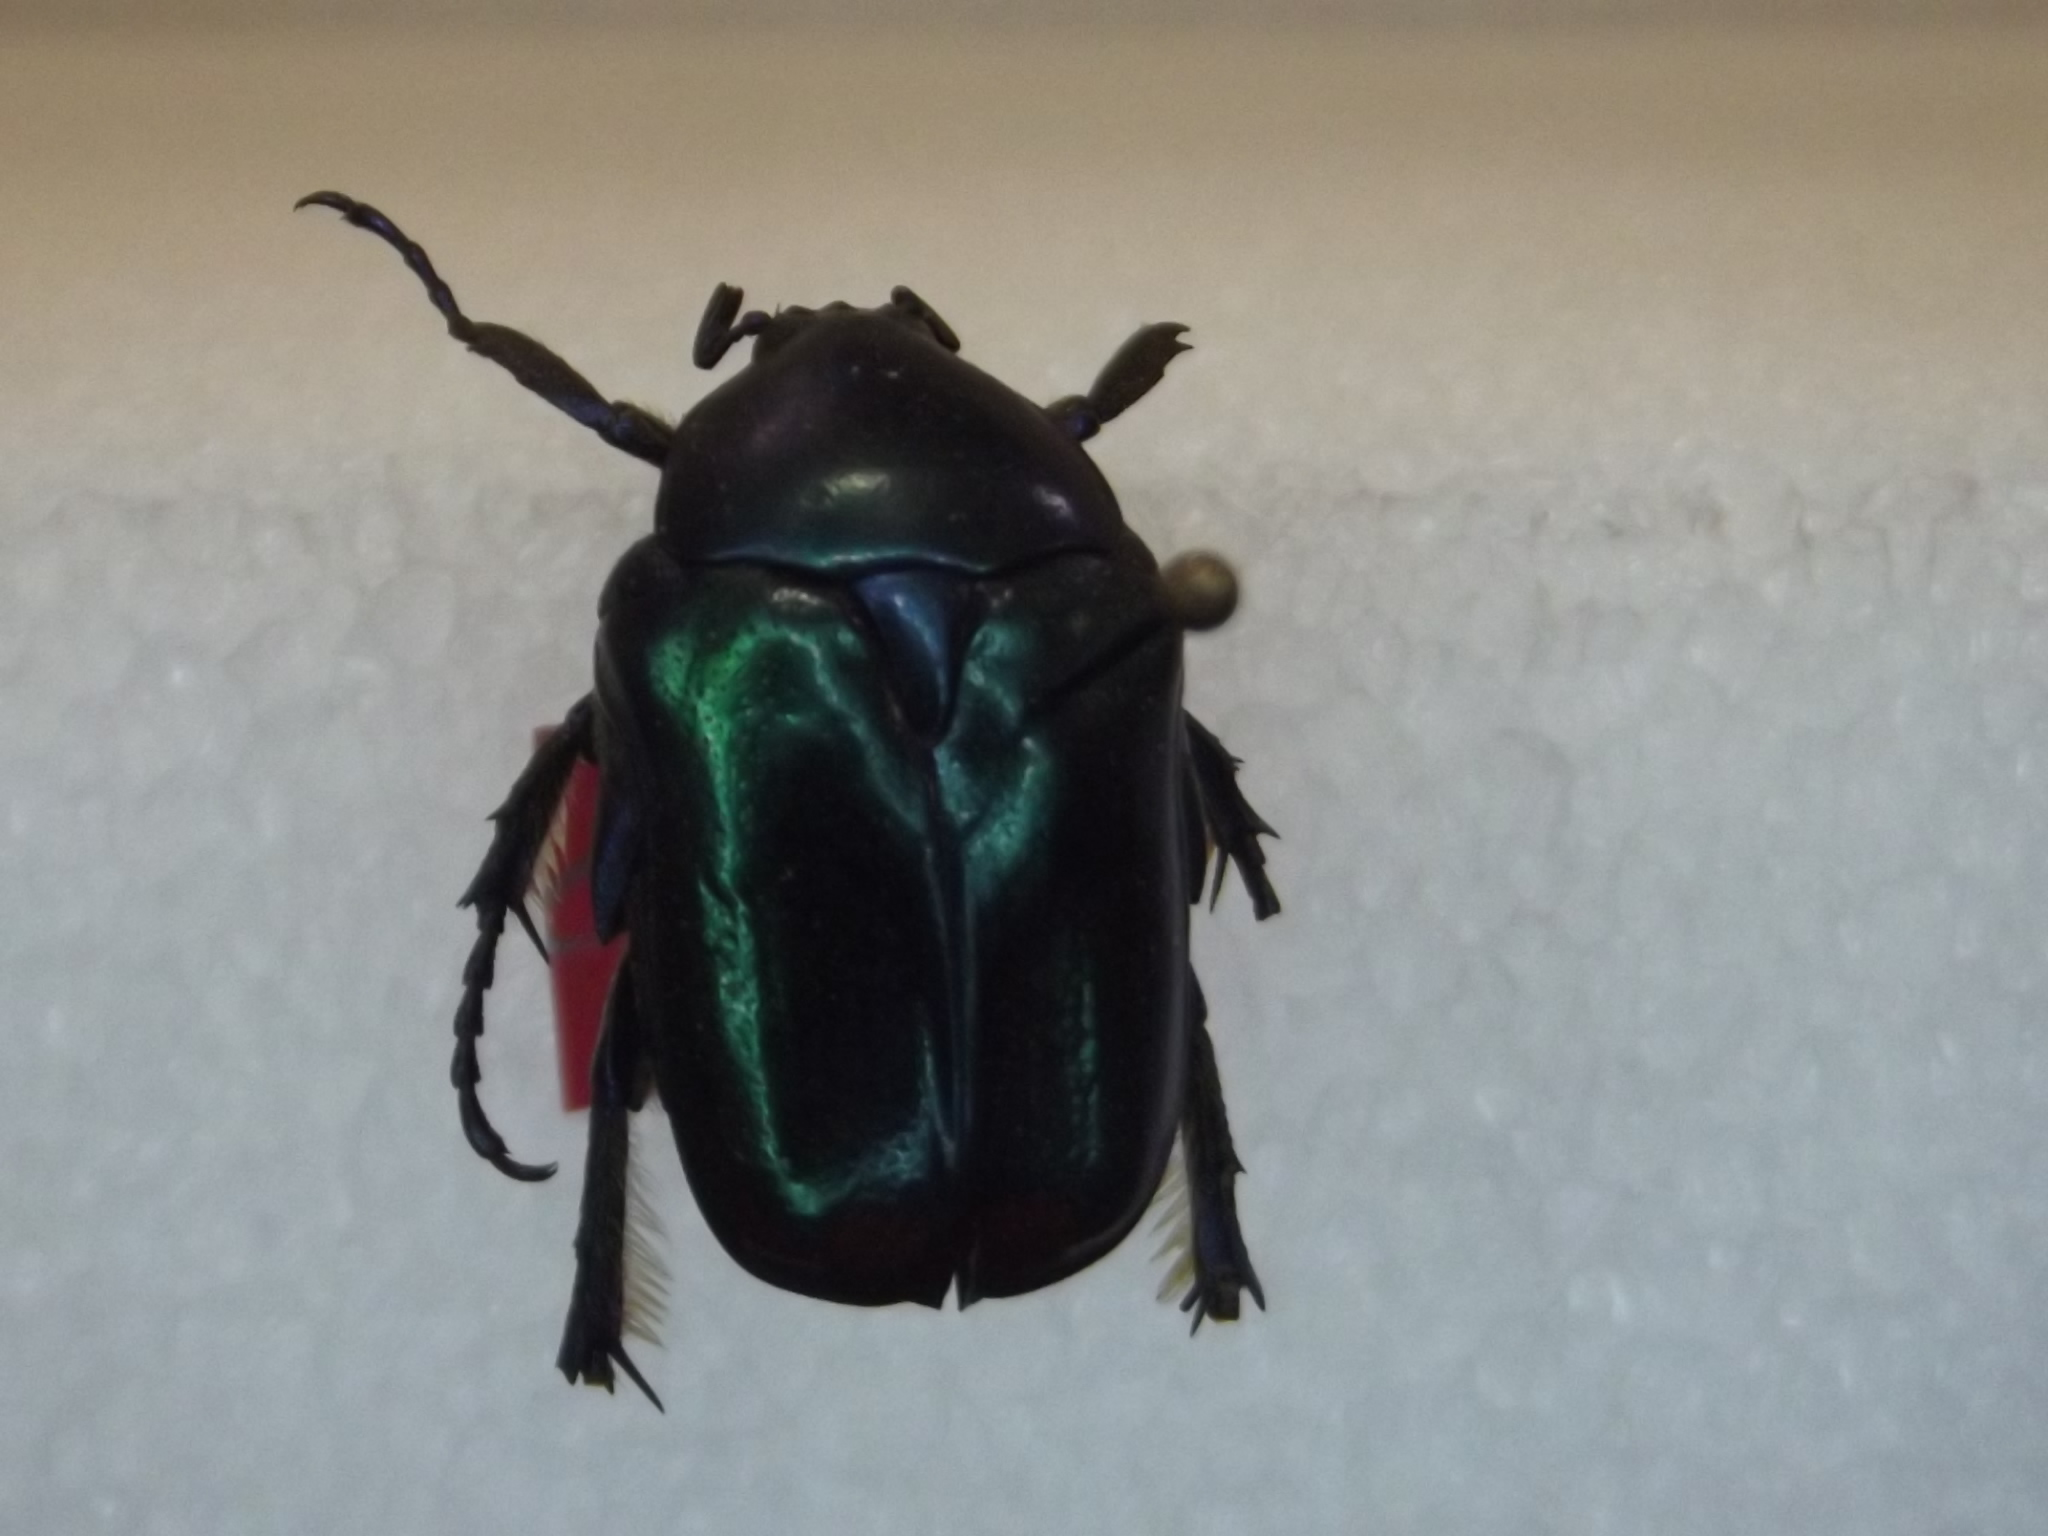Protaetia_besucheti: (261, 139, 1305, 1439)
